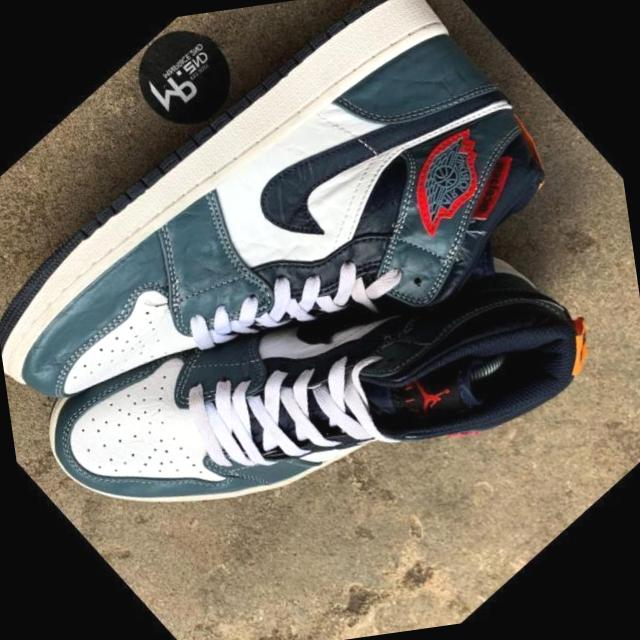nike_fake_jordan: (0, 0, 640, 591), (0, 78, 639, 640)
